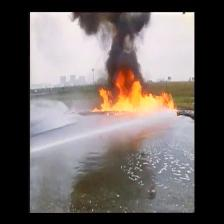fire: (96, 81, 173, 115), (107, 11, 142, 71)
